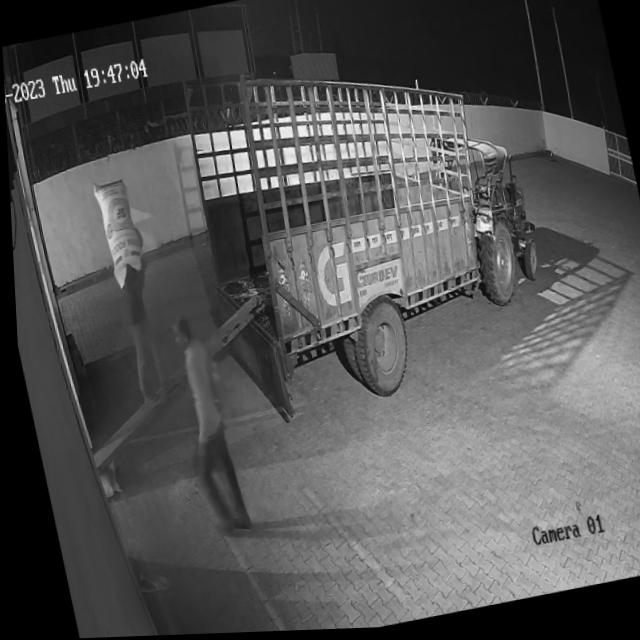sack: (88, 177, 149, 290)
